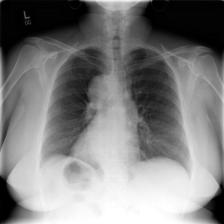normal: (37, 44, 195, 180)
